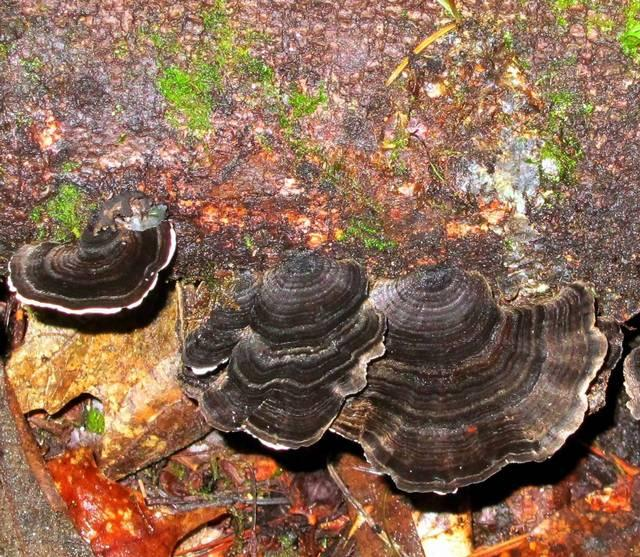poisonous_mushroom: (328, 261, 609, 496), (177, 247, 387, 452), (5, 188, 177, 320)
